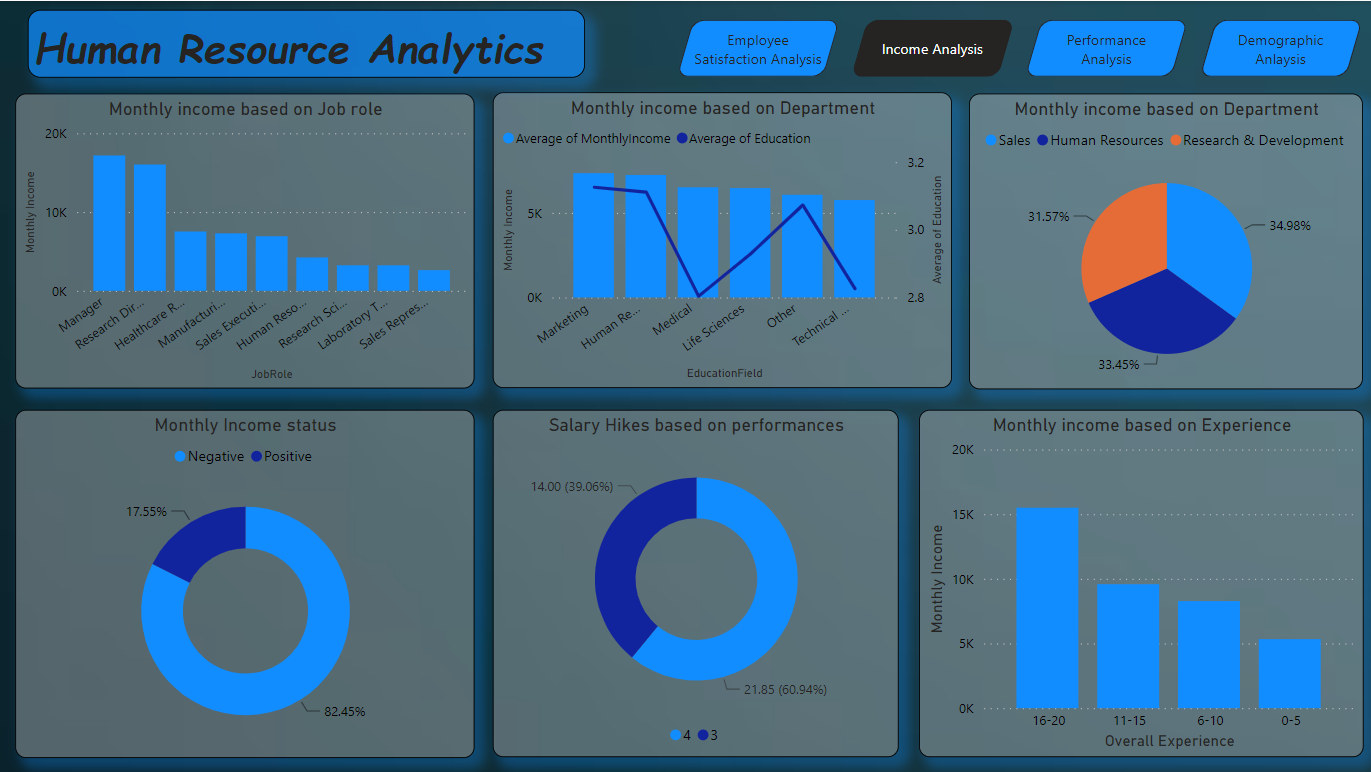

The page's visual inventory and layout, read from the dashboard file:
{"tool":"powerbi","page":{"name":"Income Analysis","canvas":[1280,720],"ordinal":1},"visuals":[{"type":"lineClusteredColumnComboChart","title":"Monthly income based on Job role","fields":{"Category":["HR Data.JobRole"],"Y":["Avg(HR Data.MonthlyIncome)"]},"box":[15.2,86,427.2,274.6],"z":0},{"type":"pageNavigator","box":[630,17.7,638.9,53.2],"z":1000},{"type":"lineClusteredColumnComboChart","title":"Monthly income based on Department","fields":{"Y":["Avg(HR Data.MonthlyIncome)"],"Category":["HR Data.EducationField"],"Y2":["Avg(HR Data.Education)"]},"box":[459.3,84.9,426.8,274.9],"z":2000},{"type":"pieChart","title":"Monthly income based on Department","fields":{"Y":["Avg(HR Data.MonthlyIncome)"],"Category":["HR Data.Department"]},"box":[902.2,86.2,366.4,274.9],"z":3000},{"type":"donutChart","title":"Monthly Income status","fields":{"Category":["HR Data.Income status"],"Y":["CountNonNull(HR Data.Income status)"]},"box":[15.2,379.8,426.8,323.7],"z":4000},{"type":"donutChart","title":"Salary Hikes based on performances","fields":{"Category":["HR Data.PerformanceRating"],"Y":["Avg(HR Data.PercentSalaryHike)"]},"box":[458.8,379.7,377.3,323.6],"z":5000},{"type":"lineClusteredColumnComboChart","title":"Monthly income based on Experience","fields":{"Category":["HR Data.Overall Experience"],"Y":["Avg(HR Data.MonthlyIncome)"]},"box":[855.4,379.7,413.5,323.6],"z":6000},{"type":"textbox","box":[26.6,7.6,518.4,63.4],"z":6001}]}

Visuals, with their boxes in screenshot pixels (x1, y1, x2, y2), scaled from the page's 1280x720 canvas onto the 1371x772 screenshot:
"Monthly income based on Job role" lineClusteredColumnComboChart: Rect(16, 92, 474, 387)
pageNavigator: Rect(675, 19, 1359, 76)
"Monthly income based on Department" lineClusteredColumnComboChart: Rect(492, 91, 949, 386)
"Monthly income based on Department" pieChart: Rect(966, 92, 1359, 387)
"Monthly Income status" donutChart: Rect(16, 407, 473, 754)
"Salary Hikes based on performances" donutChart: Rect(491, 407, 896, 754)
"Monthly income based on Experience" lineClusteredColumnComboChart: Rect(916, 407, 1359, 754)
textbox: Rect(28, 8, 584, 76)
